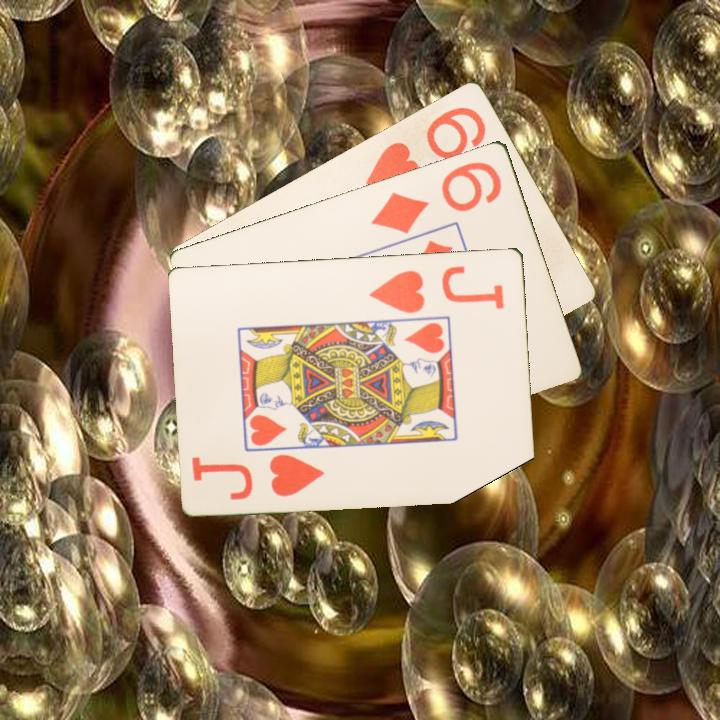6d: (367, 157, 505, 237)
6h: (361, 102, 490, 188)
Jh: (366, 261, 508, 316), (266, 450, 328, 499)
